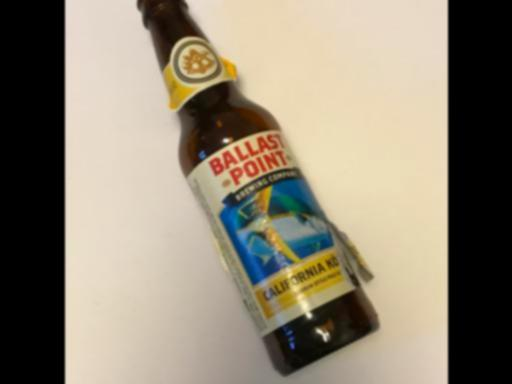alcohol: (136, 0, 381, 377)
glass: (136, 0, 381, 377)
sodocalcique: (136, 0, 381, 377)
